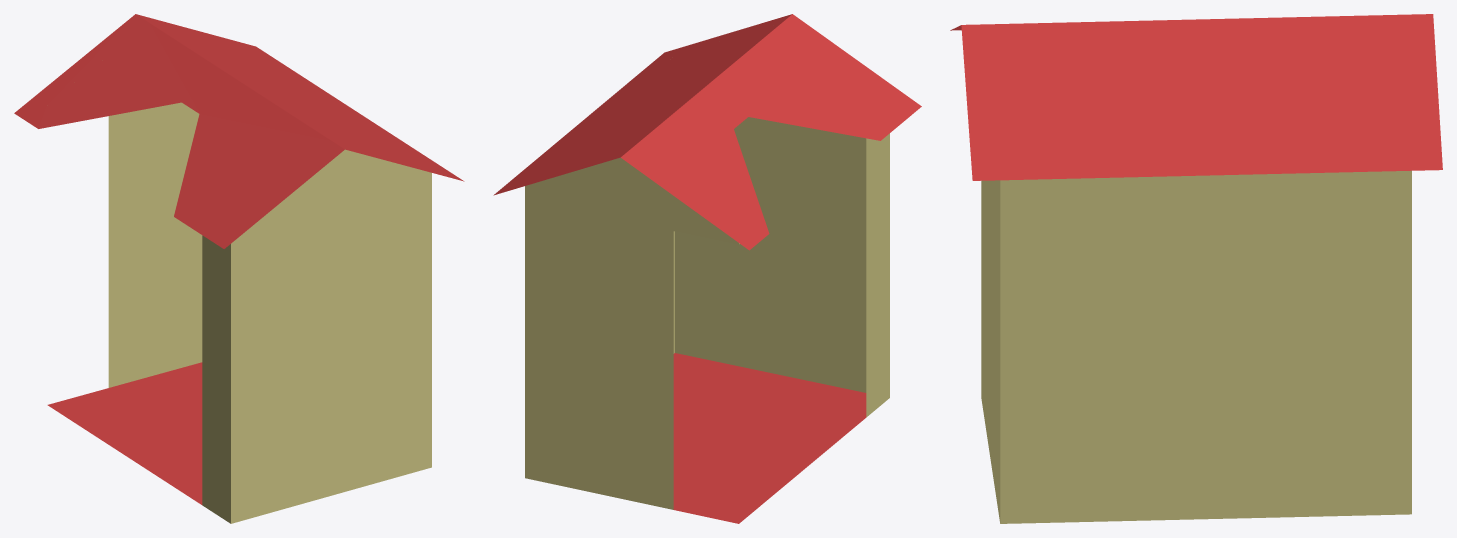
3 views of the same model, side by side, from view 1: azimuth 30°, elevation 25°; view 2: azimuth 150°, elevation 25°; view 3: azimuth 270°, elevation 25° (orthographic). The views are drawn at different scales.
Bounding box in the file's own units: 9.7 × 12.52 × 12.26.
